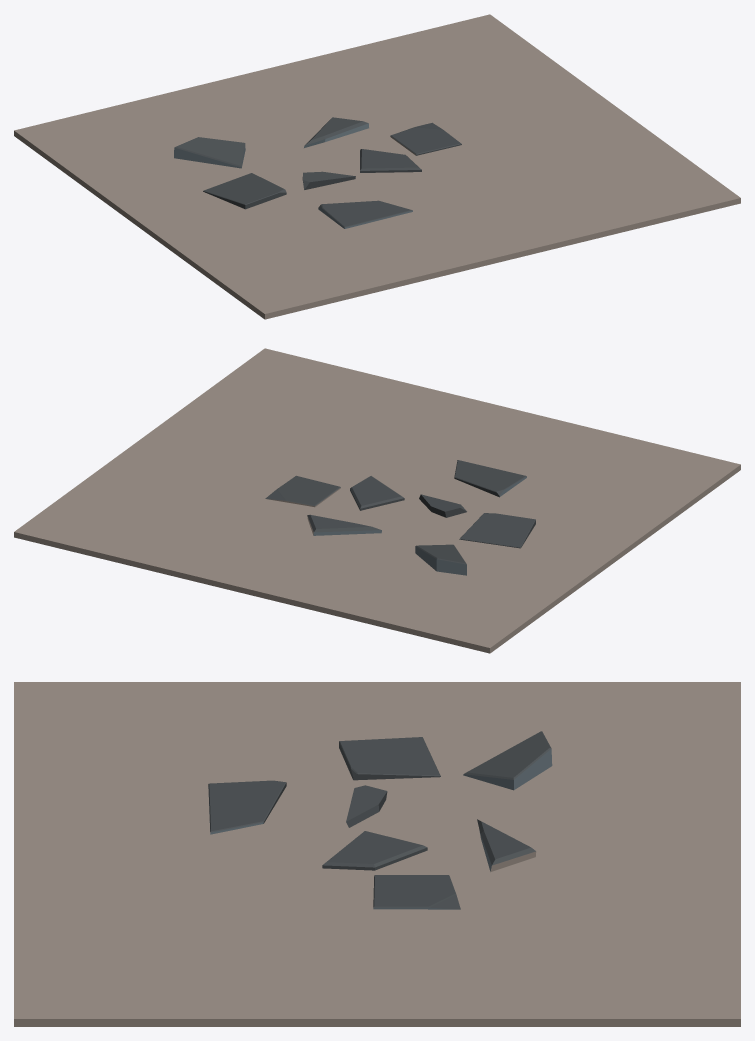
Rendered from floor_5.obj.
3 renders of one model, top to bottom at view 1: azimuth 30°, elevation 25°; view 2: azimuth 150°, elevation 25°; view 3: azimuth 270°, elevation 25°, orthographic. The views are drawn at different scales.
Parts seen in each view (by area): view 1: floor_5; view 2: floor_5; view 3: floor_5.
Part boxes in pixels (x1,y1,x2,y2): floor_5: [14, 14, 740, 319]; floor_5: [14, 348, 740, 653]; floor_5: [14, 682, 740, 1026].
Size of the model in its own units: 1.53 by 0.0563 by 1.4.
